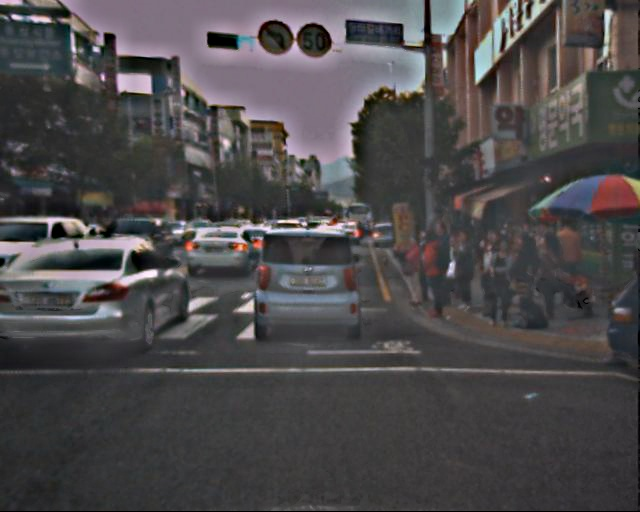person: (478, 239, 514, 328), (547, 219, 582, 305), (530, 232, 564, 314), (421, 235, 453, 314), (505, 233, 536, 309), (449, 230, 480, 305), (422, 221, 451, 292), (399, 236, 426, 302)
